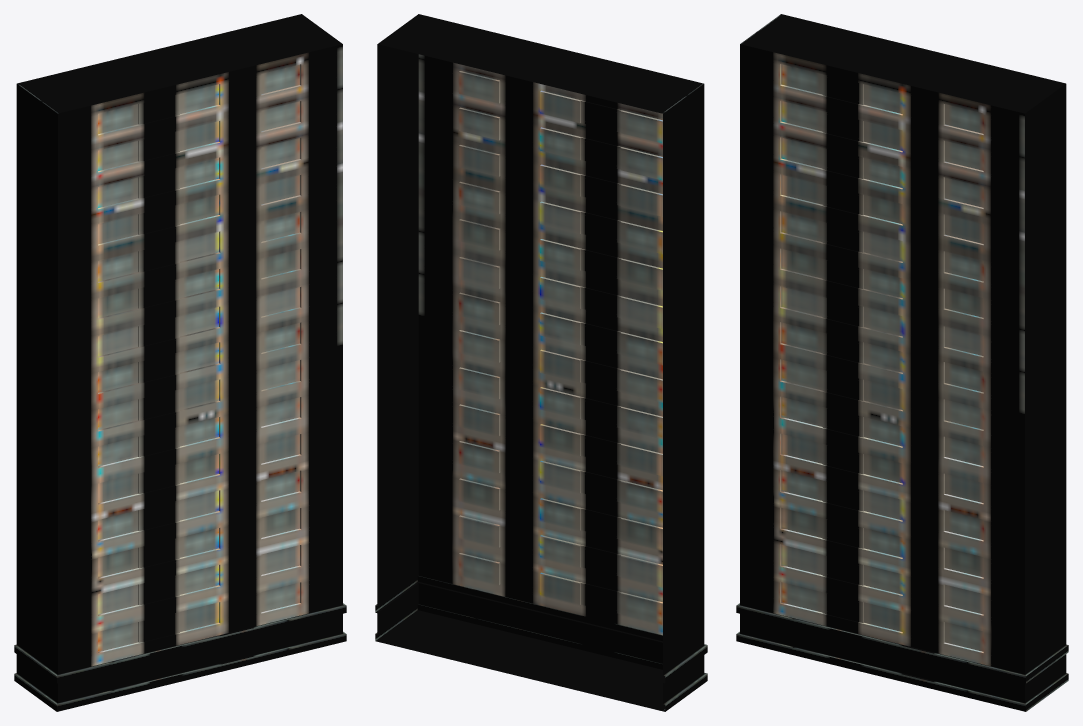
Rendered from Pagoda_Body_Tile_2500x5000_B.FBX.
3 renders of one model, left to right at view 1: azimuth 30°, elevation 25°; view 2: azimuth 150°, elevation 25°; view 3: azimuth 330°, elevation 25°, orthographic.
Visible parts, largest first — view 1: Geometry_Pagoda_Body_Tile_2500x5000_B_LOD00; view 2: Geometry_Pagoda_Body_Tile_2500x5000_B_LOD00; view 3: Geometry_Pagoda_Body_Tile_2500x5000_B_LOD00.
Boxes of the visible parts, x1,y1,x2,y2 form: Geometry_Pagoda_Body_Tile_2500x5000_B_LOD00: [14, 14, 346, 711]; Geometry_Pagoda_Body_Tile_2500x5000_B_LOD00: [375, 14, 707, 711]; Geometry_Pagoda_Body_Tile_2500x5000_B_LOD00: [736, 14, 1068, 711].
Size of what is drawn, in the model's own units: 2540 by 5000 by 645.
